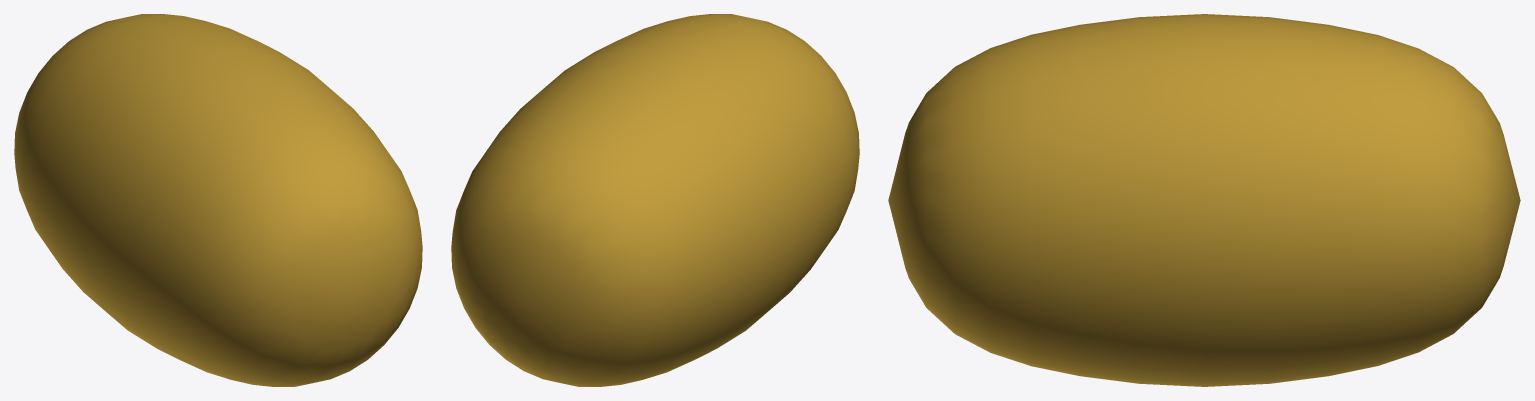
The picture shows the model from 3 angles, left to right: view 1: azimuth 30°, elevation 25°; view 2: azimuth 150°, elevation 25°; view 3: azimuth 270°, elevation 25°; orthographic projection. The views are drawn at different scales.
Visible parts, largest first — view 1: 右侧三叉神经运动根; view 2: 右侧三叉神经运动根; view 3: 右侧三叉神经运动根.
Boxes of the visible parts, x1=… form: 右侧三叉神经运动根: x1=14, y1=14, x2=422, y2=386; 右侧三叉神经运动根: x1=451, y1=14, x2=859, y2=386; 右侧三叉神经运动根: x1=888, y1=14, x2=1520, y2=386.
Size of the model in its own units: 0.0028 by 0.0028 by 0.00476.
